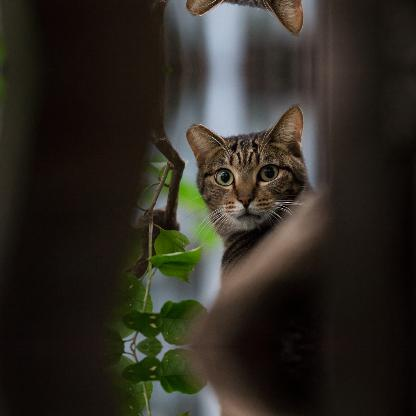Cat: (183, 104, 318, 288)
